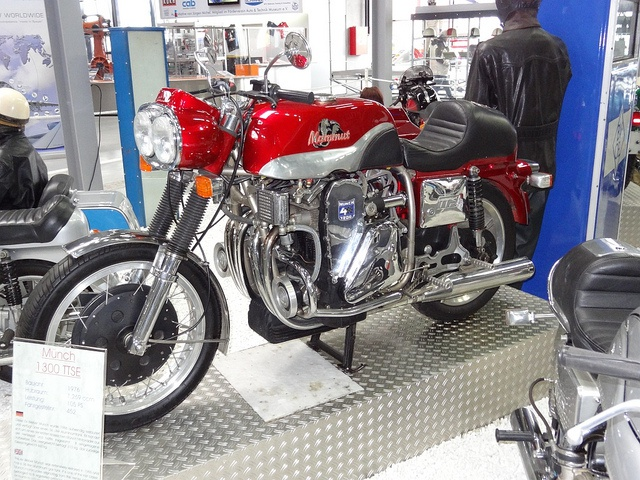non-vehicle: (14, 31, 554, 434), (495, 237, 640, 479), (0, 195, 116, 383), (387, 64, 442, 112)
